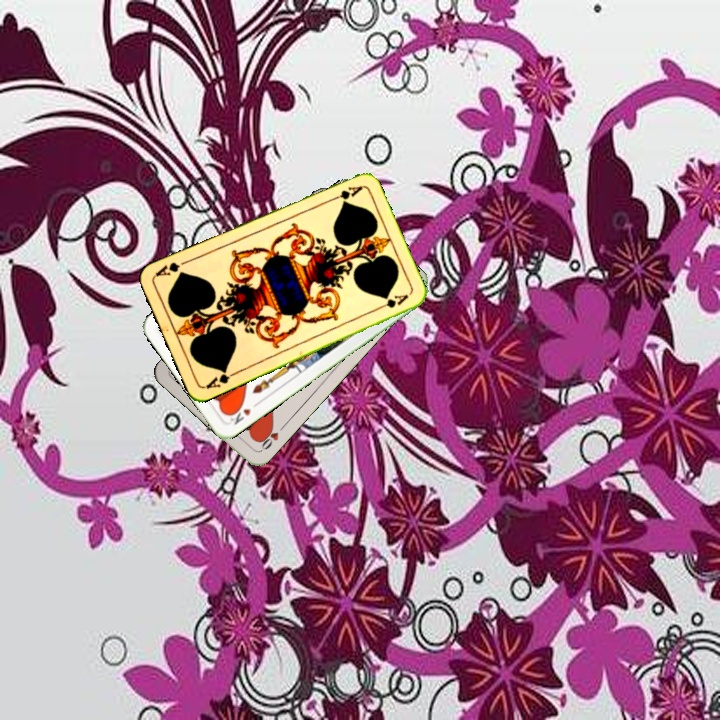GA: (202, 365, 240, 392), (326, 181, 365, 204)
HK: (224, 401, 254, 427)
HO: (254, 420, 288, 454)
